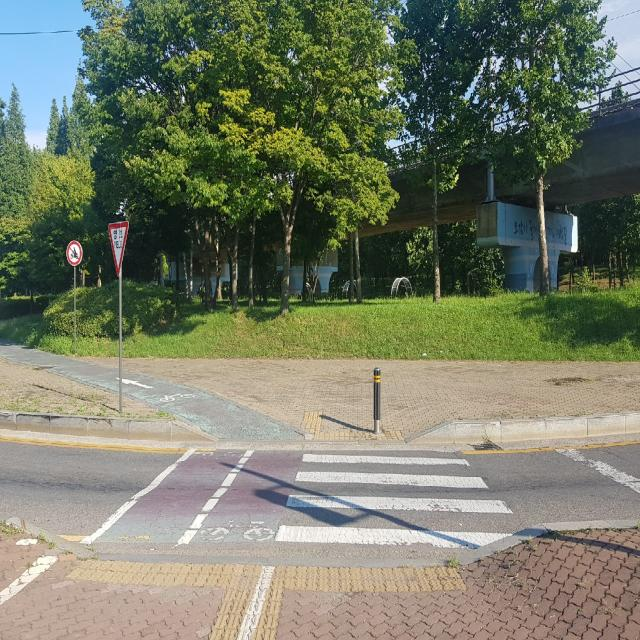횡단보도: (274, 453, 513, 549)
